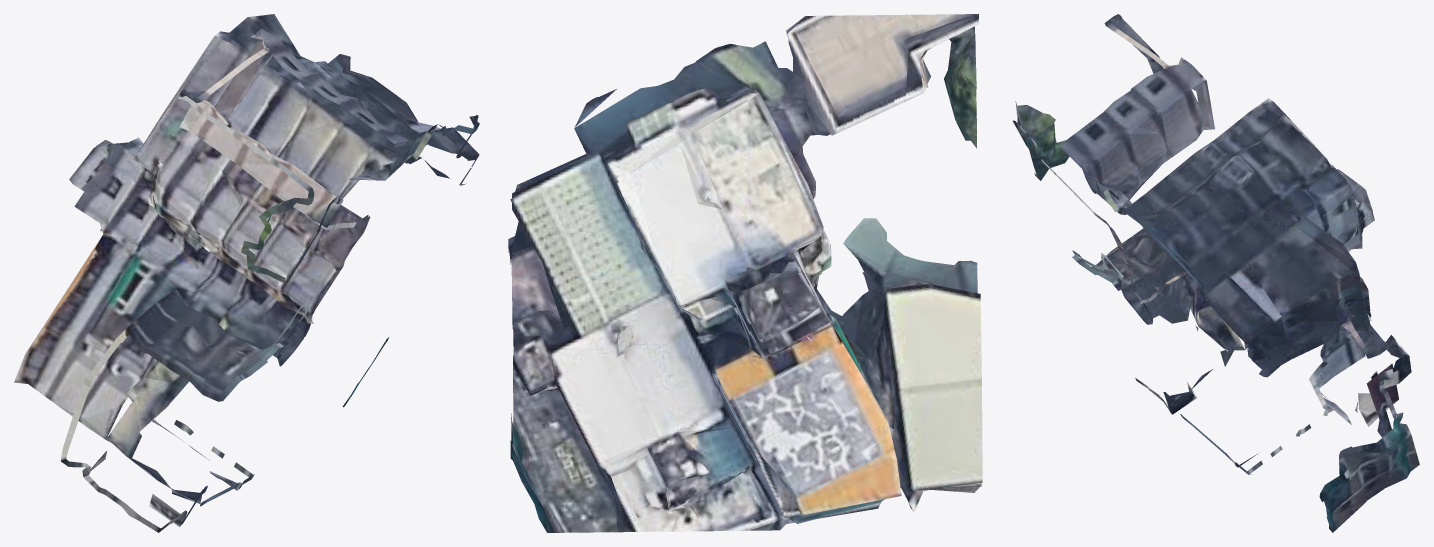
The picture shows the model from 3 angles, left to right: view 1: azimuth 30°, elevation 25°; view 2: azimuth 150°, elevation 25°; view 3: azimuth 270°, elevation 25°; orthographic projection. The views are drawn at different scales.
Bounding box in the file's own units: 38.4 × 40.49 × 37.37.
1 material, 1 textured.
